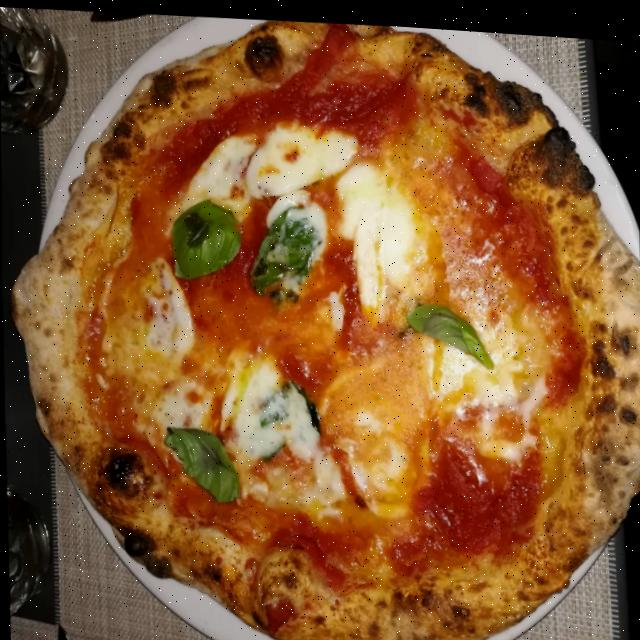basil: (401, 292, 502, 365), (250, 195, 320, 299), (165, 193, 245, 282), (161, 418, 238, 501)
pizza: (5, 0, 640, 640)
